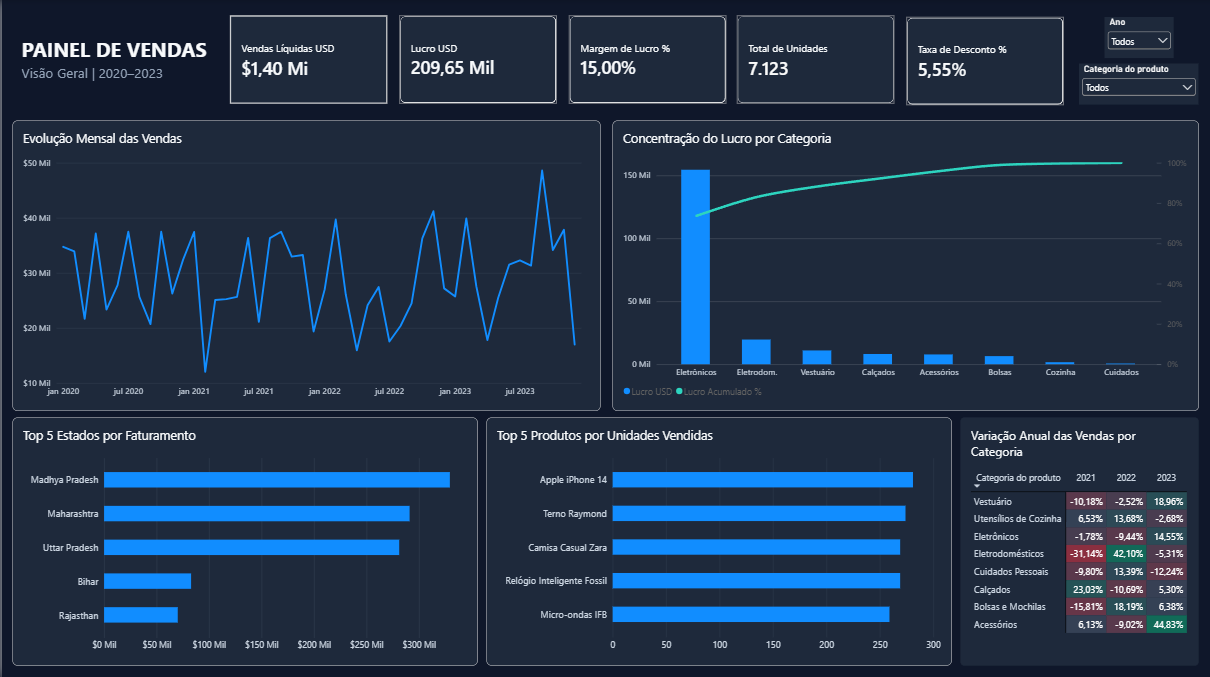

The dashboard page shown, as its layout file describes it:
{"tool":"powerbi","page":{"name":"Página 1","canvas":[1920,1080],"ordinal":0},"visuals":[{"type":"cardVisual","fields":{"Data":["Fato_Vendas.Margem de Lucro %"]},"box":[901,27.3,250,140],"z":0},{"type":"cardVisual","fields":{"Data":["Fato_Vendas.Total de Unidades"]},"box":[1170.1,27.3,250,140],"z":1000},{"type":"cardVisual","fields":{"Data":["Fato_Vendas.Taxa de Desconto %"]},"box":[1437.8,28.8,250,140],"z":2000},{"type":"cardVisual","fields":{"Data":["Fato_Vendas.Vendas Líquidas USD"]},"box":[362.7,27.3,250,140],"z":3000},{"type":"cardVisual","fields":{"Data":["Fato_Vendas.Lucro USD"]},"box":[631.8,27.3,250,140],"z":4000},{"type":"lineChart","title":"Evolução Mensal das Vendas","fields":{"Category":["Dim_Datas.Data Início Mês"],"Y":["Fato_Vendas.Vendas Líquidas USD"]},"box":[17.3,192.9,935.5,462],"z":5000},{"type":"clusteredBarChart","title":"Top 5 Estados por Faturamento","fields":{"Category":["Dim_Clientes.Estado do cliente"],"Y":["Fato_Vendas.Vendas Líquidas USD"]},"box":[17.3,666.4,740,394.4],"z":6000},{"type":"barChart","title":"Top 5 Produtos por Unidades Vendidas","fields":{"Category":["Dim_Produtos.Nome do produto"],"Y":["Fato_Vendas.Total de Unidades"]},"box":[771.5,666.4,740,394.4],"z":7000},{"type":"lineClusteredColumnComboChart","title":"Concentração do Lucro por Categoria","fields":{"Category":["Dim_Produtos.Categoria Curta"],"Y":["Fato_Vendas.Lucro USD"],"Y2":["Fato_Vendas.Lucro Acumulado %"]},"box":[970.1,192.9,932.7,462],"z":8000},{"type":"pivotTable","title":"\tVariação Anual das Vendas por Categoria","fields":{"Columns":["Dim_Datas.Ano"],"Rows":["Dim_Produtos.Categoria do produto"],"Values":["Fato_Vendas.Variação Anual Vendas %"]},"box":[1524.2,666.4,378.5,394.4],"z":9000},{"type":"slicer","fields":{"Values":["Dim_Datas.Ano"]},"box":[1753,28.8,110,65],"z":10000},{"type":"slicer","fields":{"Values":["Dim_Produtos.Categoria do produto"]},"box":[1712.7,103.6,190,65],"z":11000},{"type":"textbox","box":[31.7,56.1,344,74.8],"z":12000},{"type":"textbox","box":[31.7,103.6,276.3,43.2],"z":13000}]}

Visuals, with their boxes in screenshot pixels (x1, y1, x2, y2), scaled from the page's 1920x1080 canvas onto the 1210x677 screenshot:
cardVisual - Fato_Vendas.Margem de Lucro %: (left=568, top=17, right=725, bottom=105)
cardVisual - Fato_Vendas.Total de Unidades: (left=737, top=17, right=895, bottom=105)
cardVisual - Fato_Vendas.Taxa de Desconto %: (left=906, top=18, right=1064, bottom=106)
cardVisual - Fato_Vendas.Vendas Líquidas USD: (left=229, top=17, right=386, bottom=105)
cardVisual - Fato_Vendas.Lucro USD: (left=398, top=17, right=556, bottom=105)
"Evolução Mensal das Vendas" lineChart: (left=11, top=121, right=600, bottom=411)
"Top 5 Estados por Faturamento" clusteredBarChart: (left=11, top=418, right=477, bottom=665)
"Top 5 Produtos por Unidades Vendidas" barChart: (left=486, top=418, right=953, bottom=665)
"Concentração do Lucro por Categoria" lineClusteredColumnComboChart: (left=611, top=121, right=1199, bottom=411)
"	Variação Anual das Vendas por Categoria" pivotTable: (left=961, top=418, right=1199, bottom=665)
slicer - Dim_Datas.Ano: (left=1105, top=18, right=1174, bottom=59)
slicer - Dim_Produtos.Categoria do produto: (left=1079, top=65, right=1199, bottom=106)
textbox: (left=20, top=35, right=237, bottom=82)
textbox: (left=20, top=65, right=194, bottom=92)
